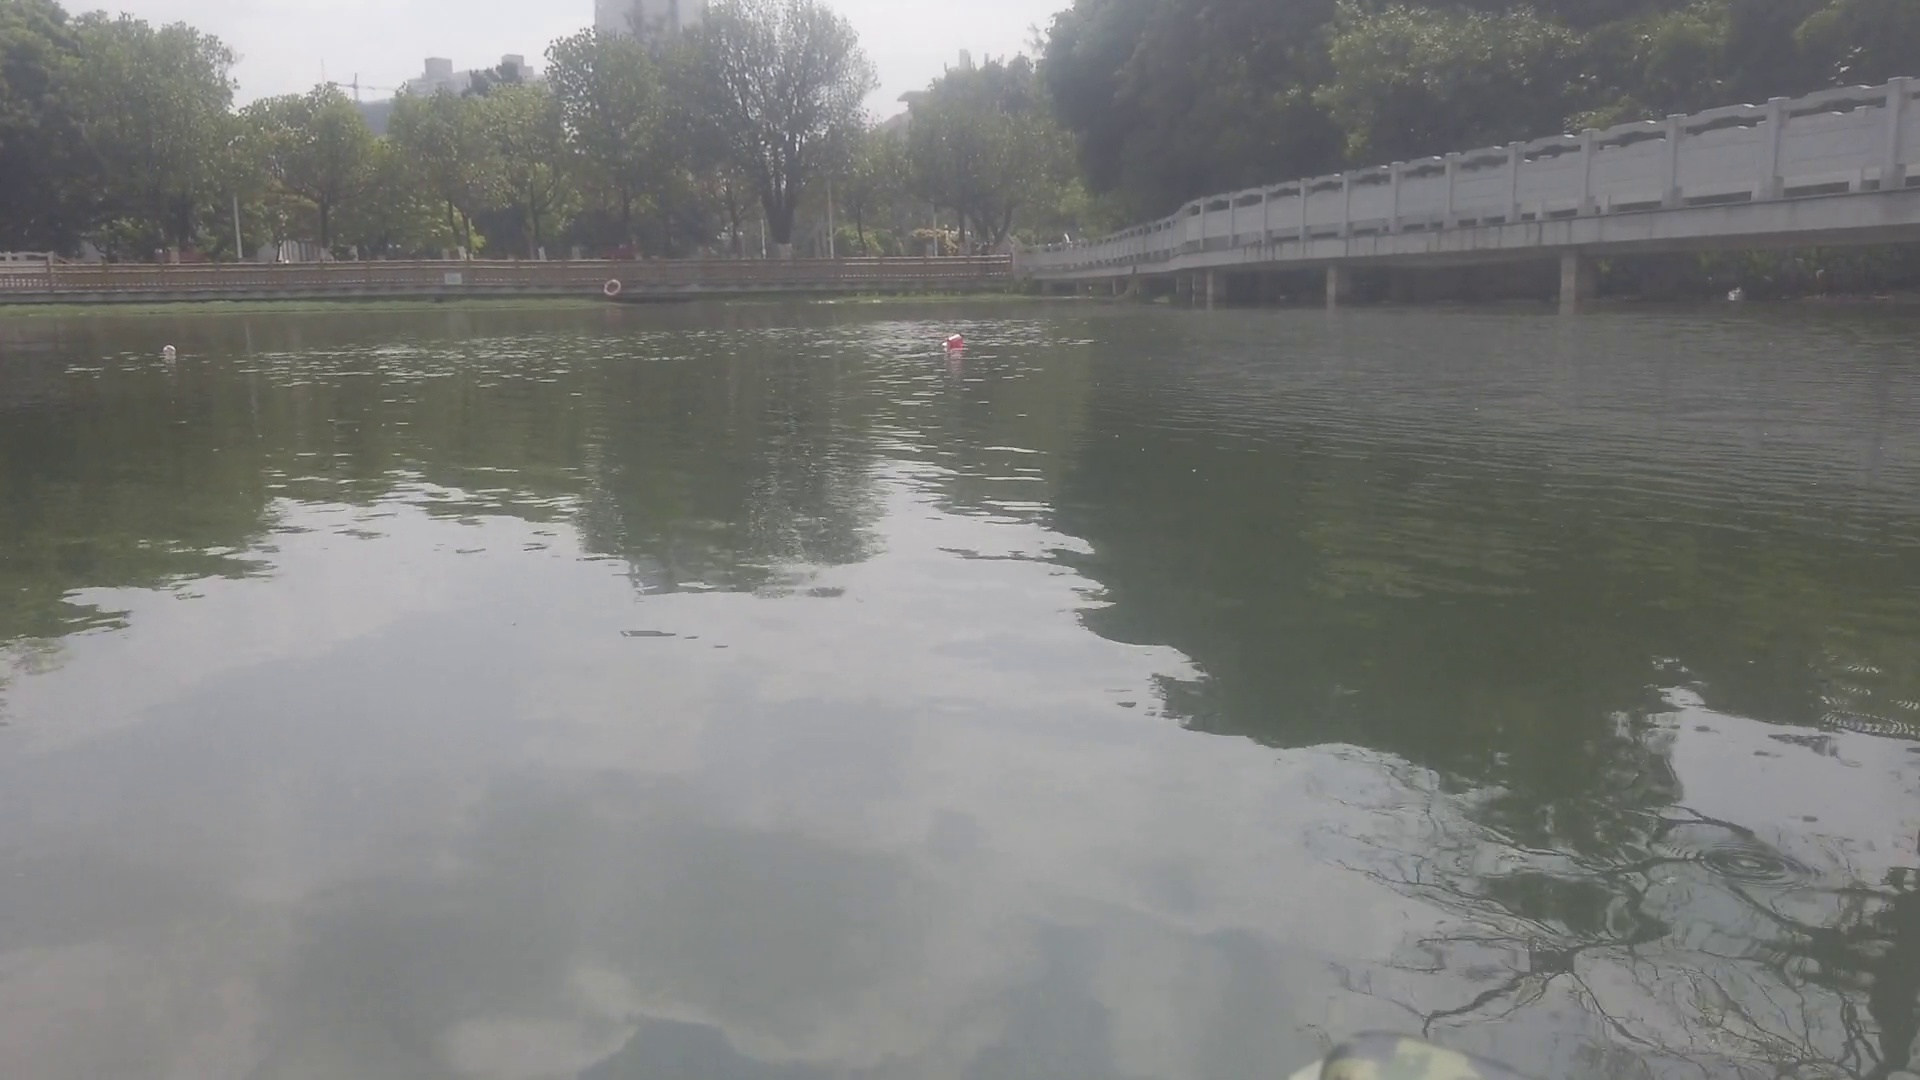bottle: (942, 334, 963, 352), (160, 340, 179, 356)
